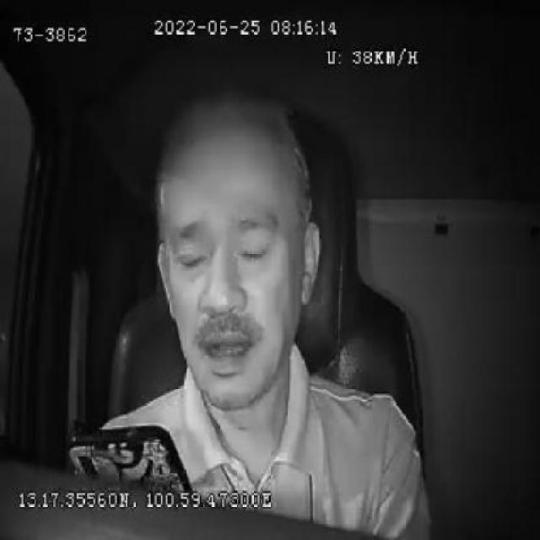phone: (68, 424, 194, 490)
